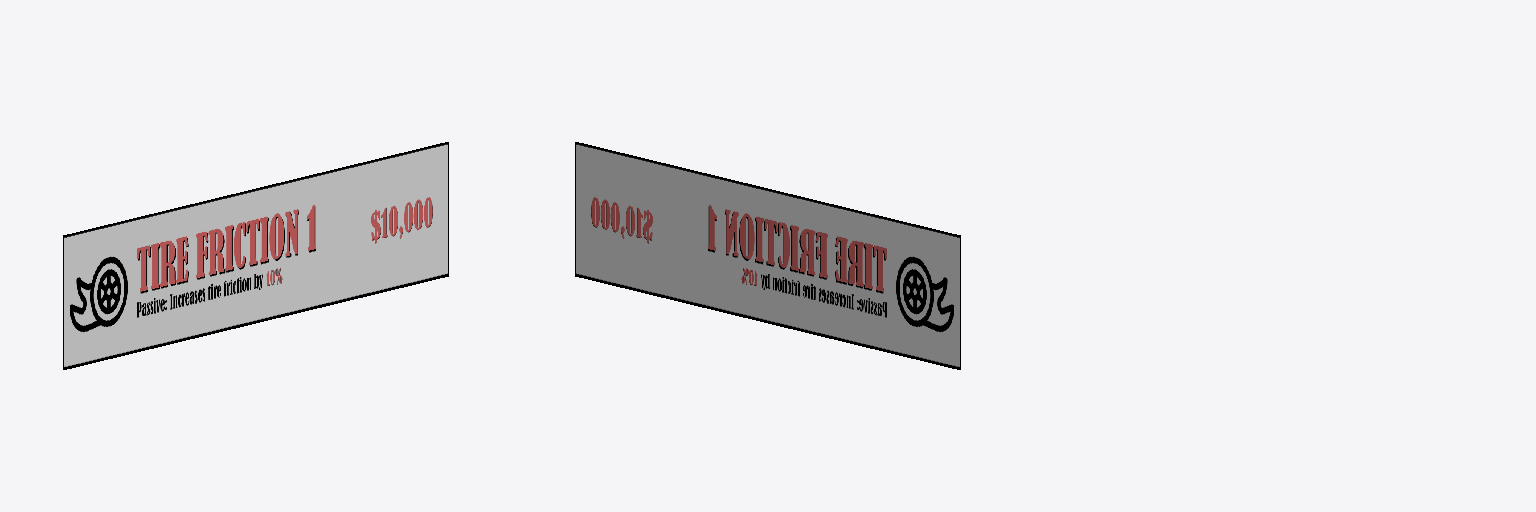
3 views of the same model, side by side, from view 1: azimuth 30°, elevation 25°; view 2: azimuth 150°, elevation 25°; view 3: azimuth 270°, elevation 25° (orthographic).
Visible parts, largest first — view 1: Plane.003; view 2: Plane.003; view 3: none.
Part boxes in pixels (bbox=[...]): Plane.003: bbox=[63, 142, 448, 369]; Plane.003: bbox=[575, 142, 960, 369].
Size of the model in its own units: 0.9 by 0.3 by 0.
Materials: 1 (1 with a texture image).